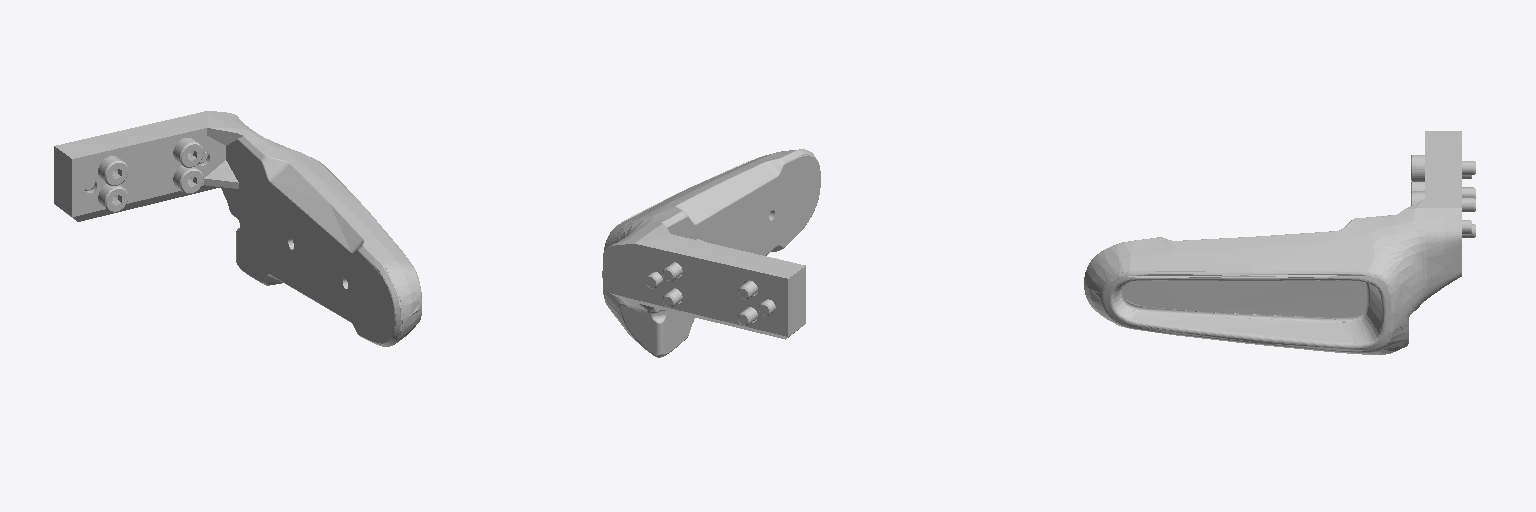
The model's file is IRB14000_GRIPPER_rev00_Tool1_Finger2.obj.
The picture shows the model from 3 angles: view 1: azimuth 30°, elevation 25°; view 2: azimuth 150°, elevation 25°; view 3: azimuth 270°, elevation 25°; orthographic projection.
Visible parts, largest first — view 1: IRB14000_GRIPPER_rev00_Tool1_Finger2, IRB14000_GRIPPER_rev00_Tool1_Finger2-3, IRB14000_GRIPPER_rev00_Tool1_Finger2-1, IRB14000_GRIPPER_rev00_Tool1_Finger2-2, IRB14000_GRIPPER_rev00_Tool1_Finger2-4; view 2: IRB14000_GRIPPER_rev00_Tool1_Finger2; view 3: IRB14000_GRIPPER_rev00_Tool1_Finger2, IRB14000_GRIPPER_rev00_Tool1_Finger2-3.
Part boxes in pixels (left/top/right/bottom): IRB14000_GRIPPER_rev00_Tool1_Finger2: left=54, top=111, right=421, bottom=346; IRB14000_GRIPPER_rev00_Tool1_Finger2-3: left=98, top=156, right=127, bottom=185; IRB14000_GRIPPER_rev00_Tool1_Finger2-1: left=173, top=138, right=203, bottom=167; IRB14000_GRIPPER_rev00_Tool1_Finger2-2: left=98, top=184, right=127, bottom=212; IRB14000_GRIPPER_rev00_Tool1_Finger2-4: left=173, top=165, right=203, bottom=193; IRB14000_GRIPPER_rev00_Tool1_Finger2: left=602, top=149, right=820, bottom=357; IRB14000_GRIPPER_rev00_Tool1_Finger2: left=1084, top=131, right=1461, bottom=354; IRB14000_GRIPPER_rev00_Tool1_Finger2-3: left=1411, top=155, right=1475, bottom=181.
Bounding box in the file's own units: 0.0354 × 0.0215 × 0.0542.